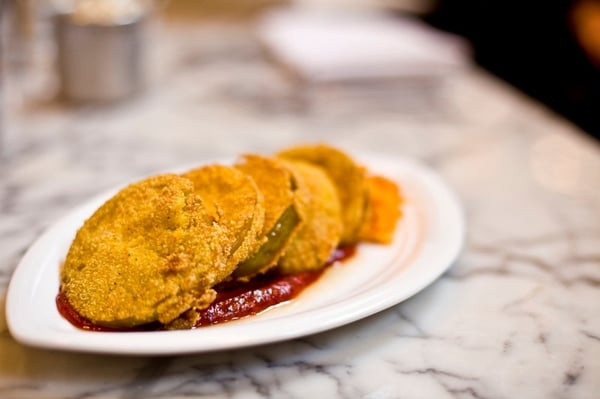soup: (57, 143, 398, 333)
